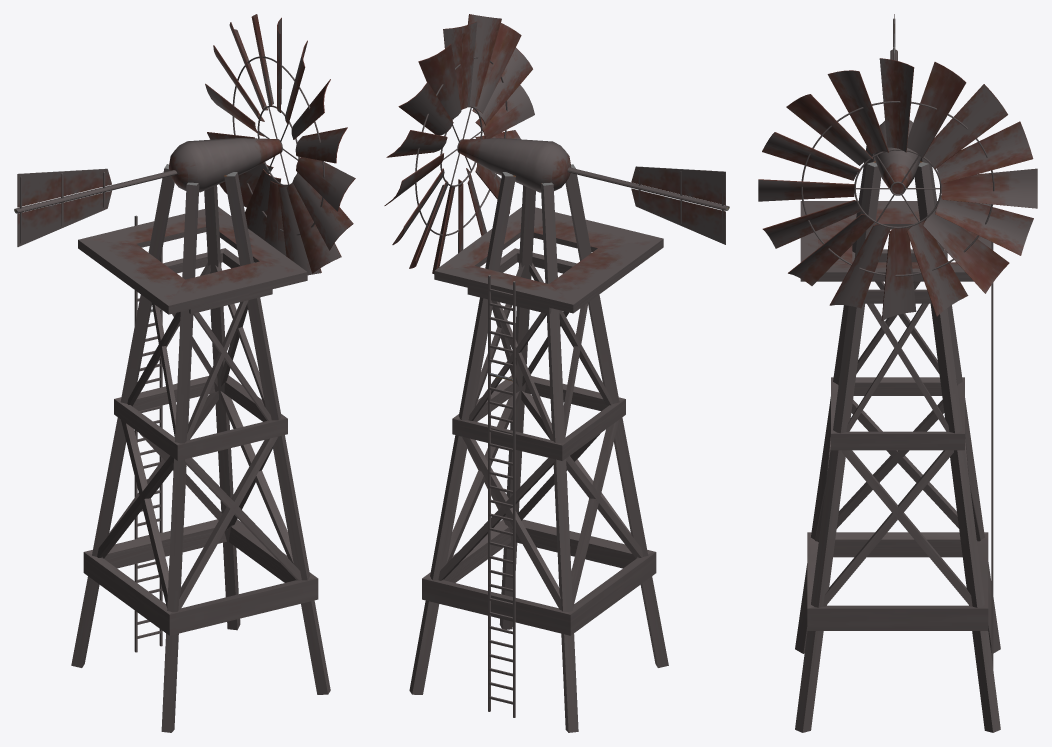
Rendered from WindMill.fbx.
The picture shows the model from 3 angles, left to right: view 1: azimuth 30°, elevation 25°; view 2: azimuth 150°, elevation 25°; view 3: azimuth 270°, elevation 25°; orthographic projection. The views are drawn at different scales.
Parts seen in each view (by area): view 1: WindMill; view 2: WindMill; view 3: WindMill.
Part boxes in pixels (x1,y1,x2,y2): WindMill: [14, 14, 355, 732]; WindMill: [384, 14, 729, 732]; WindMill: [758, 14, 1037, 732].
Size of the model in its own units: 1357 by 2987 by 1131.
